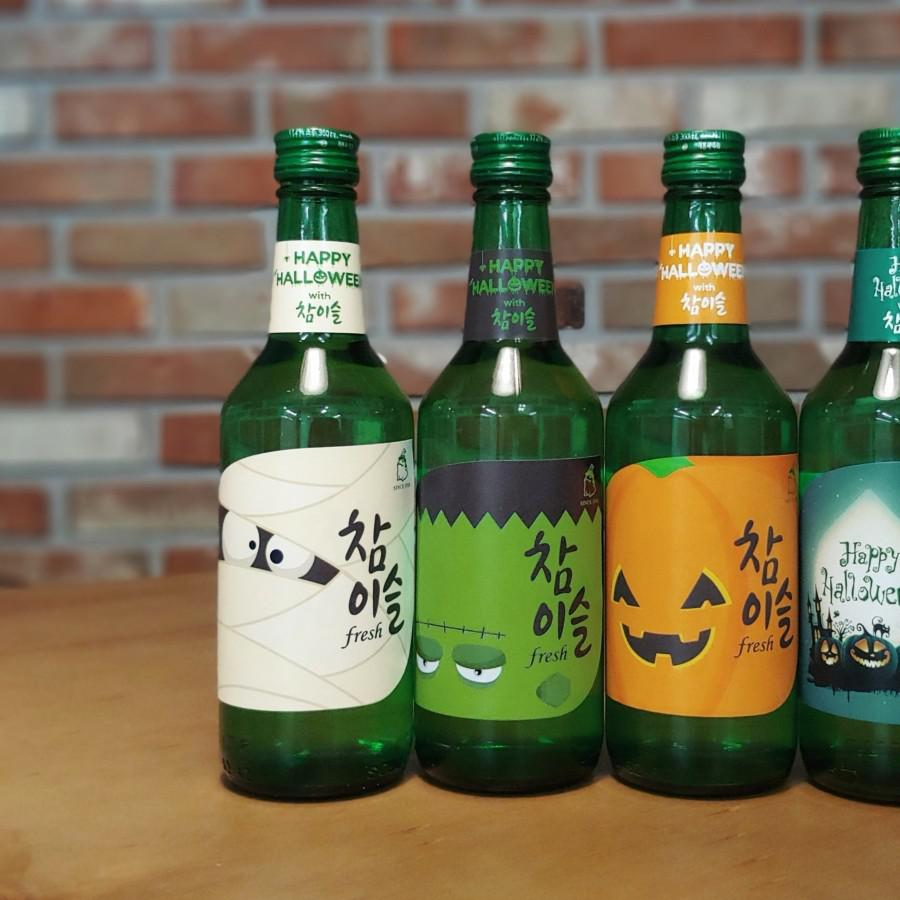soju: (215, 124, 898, 813)
